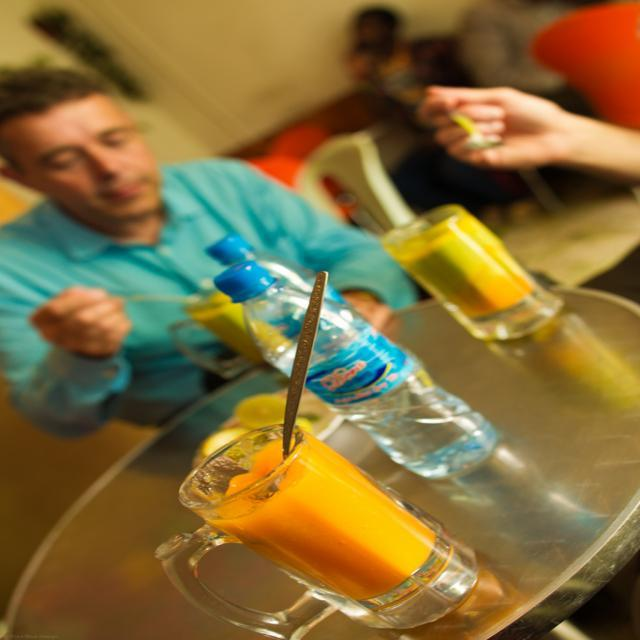Juice: (180, 440, 482, 625), (392, 214, 537, 320), (190, 301, 304, 367)
